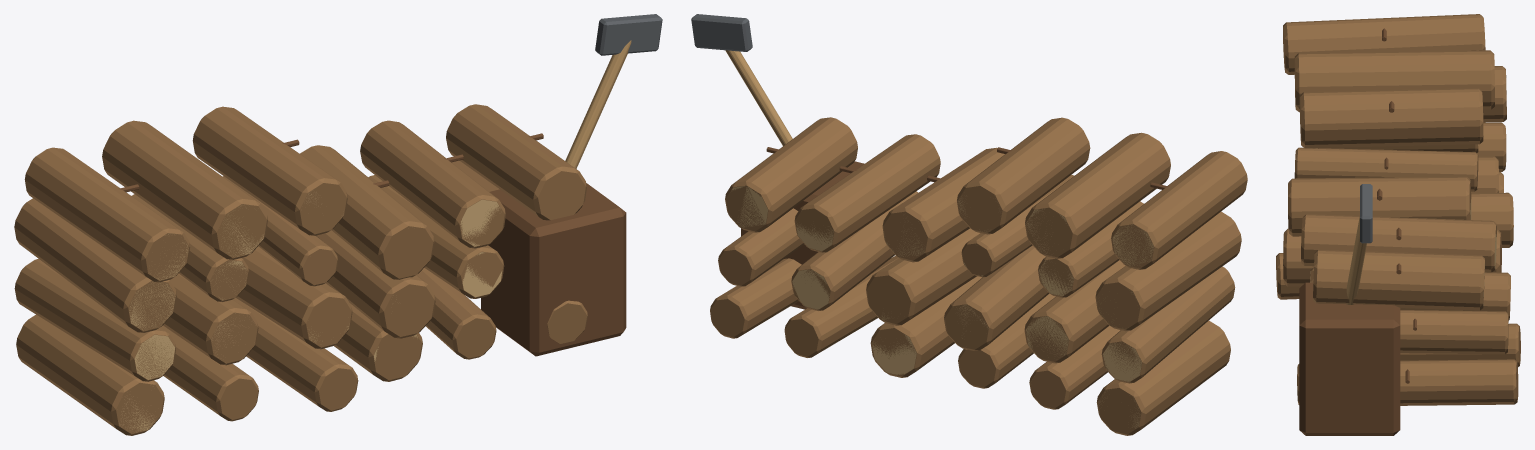
Rendered from runtime.glb.
3 views of the same model, side by side, from view 1: azimuth 30°, elevation 25°; view 2: azimuth 150°, elevation 25°; view 3: azimuth 270°, elevation 25° (orthographic). The views are drawn at different scales.
Parts seen in each view (by area): view 1: falkenwacht-woodpile-v05_nocol; view 2: falkenwacht-woodpile-v05_nocol; view 3: falkenwacht-woodpile-v05_nocol.
Part boxes in pixels (x1=…): falkenwacht-woodpile-v05_nocol: x1=14, y1=14, x2=662, y2=435; falkenwacht-woodpile-v05_nocol: x1=691, y1=14, x2=1247, y2=435; falkenwacht-woodpile-v05_nocol: x1=1276, y1=14, x2=1520, y2=435.
Size of the model in its own units: 3.27 by 1.56 by 1.34.
